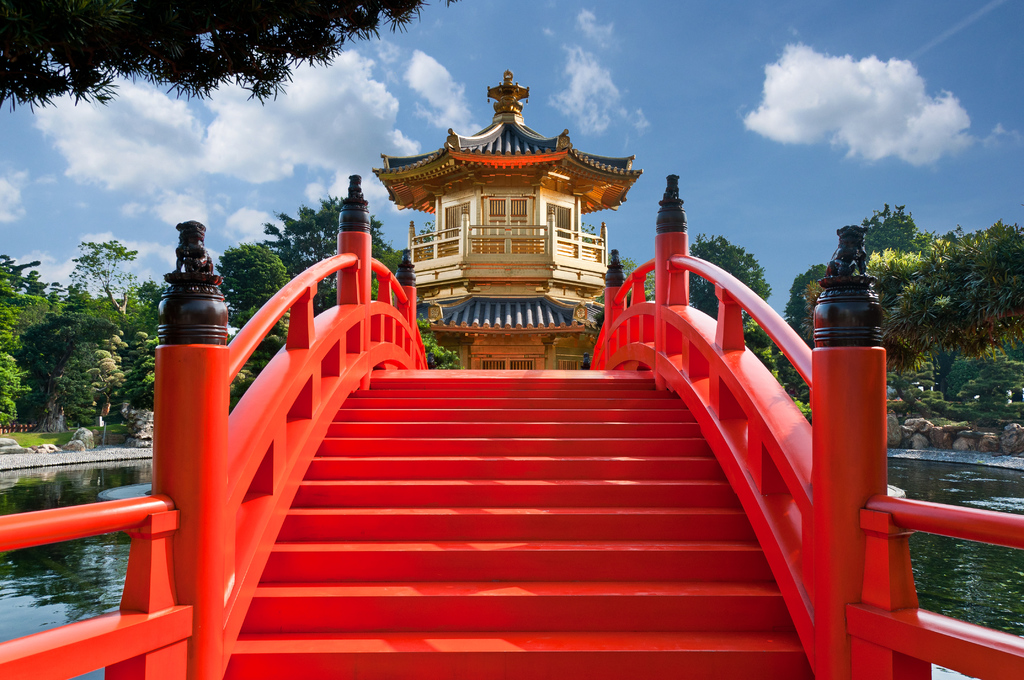Tree: (0, 201, 1024, 433), (0, 0, 462, 114), (798, 217, 1024, 378)
